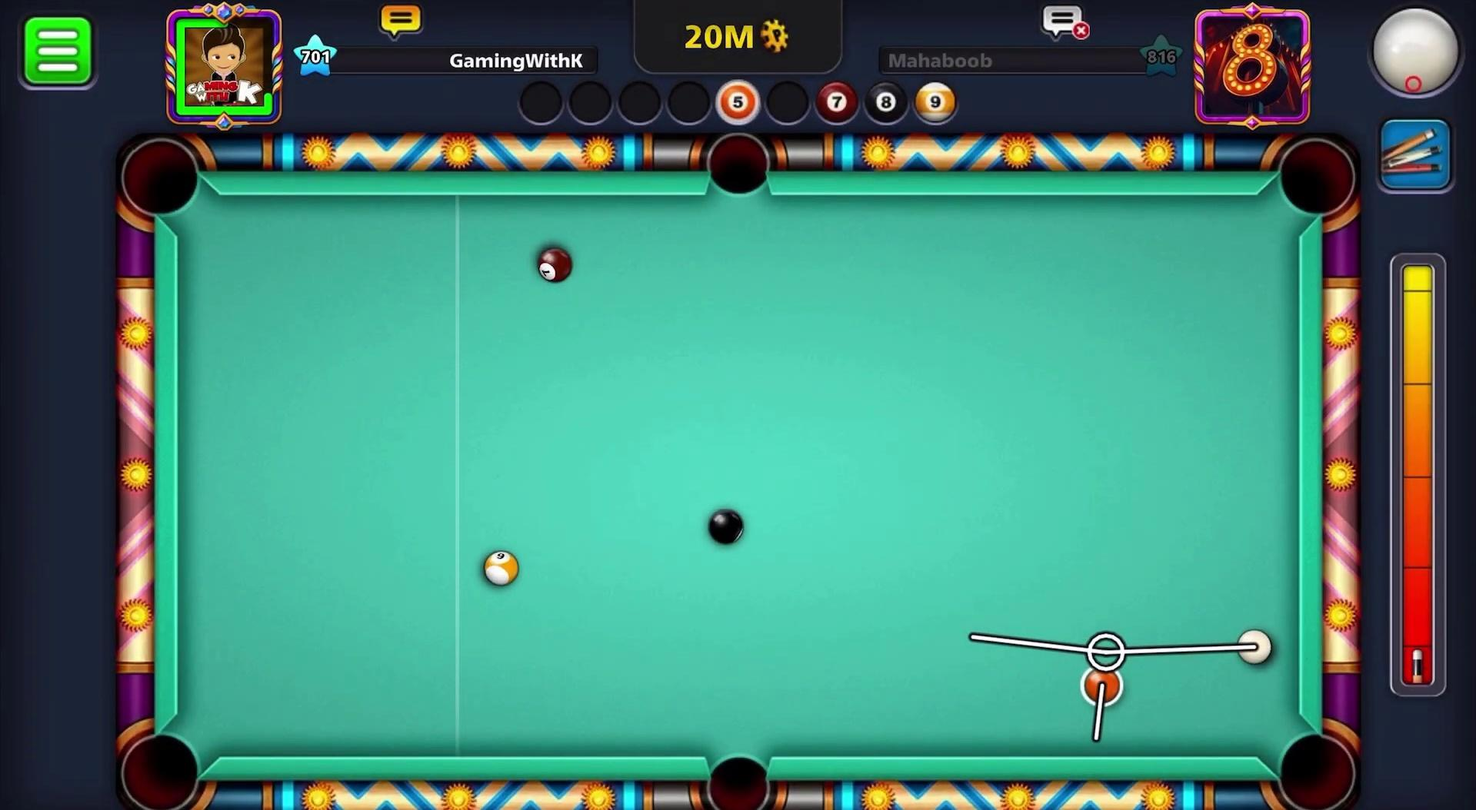Ball: (698, 504, 751, 550), (475, 543, 524, 590), (1080, 660, 1123, 712), (528, 244, 575, 284)
Force: (1388, 247, 1453, 699)
Guideline: (968, 629, 1272, 742)
Hole: (1268, 128, 1367, 231), (112, 131, 205, 224), (1268, 722, 1361, 809), (115, 727, 205, 809), (694, 738, 780, 809), (703, 126, 775, 199)
Play_Area: (175, 194, 1298, 759)
Spin: (1345, 0, 1475, 117)
White: (1238, 625, 1282, 672)
